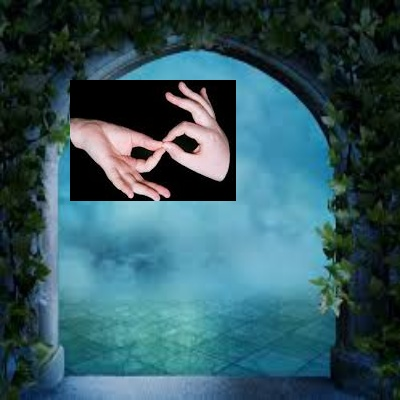hand: (70, 80, 236, 201)
